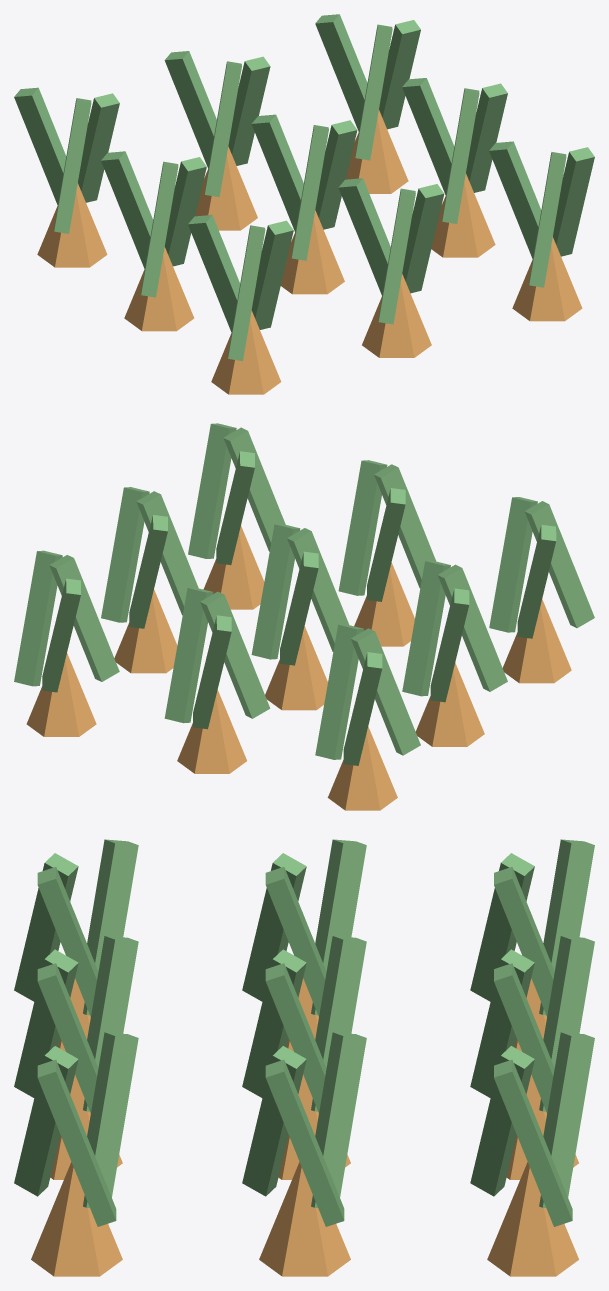
File: carrot.glb
The picture shows the model from 3 angles, top to bottom: view 1: azimuth 30°, elevation 25°; view 2: azimuth 150°, elevation 25°; view 3: azimuth 270°, elevation 25°; orthographic projection. The views are drawn at different scales.
Visible parts, largest first — view 1: carrot; view 2: carrot; view 3: carrot.
Part boxes in pixels (x1,y1,x2,y2): carrot: [14, 14, 594, 394]; carrot: [14, 423, 594, 810]; carrot: [14, 839, 594, 1276].
Size of the model in its own units: 1.29 by 0.5314 by 1.32.
